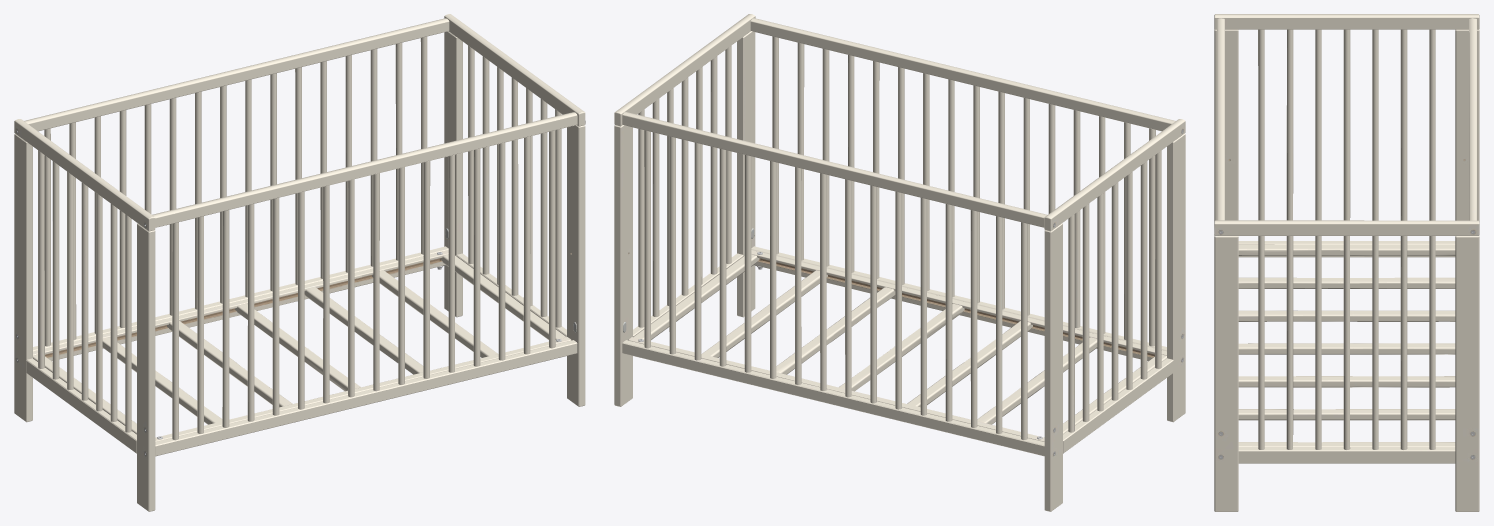
Rendered from gulliver_ozko_dzieciece_10248519.glb.
3 renders of one model, left to right at view 1: azimuth 30°, elevation 25°; view 2: azimuth 150°, elevation 25°; view 3: azimuth 270°, elevation 25°, orthographic.
Parts seen in each view (by area): view 1: gulliver_ozko_dzieciece_10248519; view 2: gulliver_ozko_dzieciece_10248519; view 3: gulliver_ozko_dzieciece_10248519.
Part boxes in pixels (<box>): gulliver_ozko_dzieciece_10248519: <box>14,14,585,511</box>; gulliver_ozko_dzieciece_10248519: <box>614,14,1185,511</box>; gulliver_ozko_dzieciece_10248519: <box>1214,14,1479,511</box>.
Bounding box in the file's own units: 1.24 × 0.7953 × 0.6601.
1 material, 1 textured.
